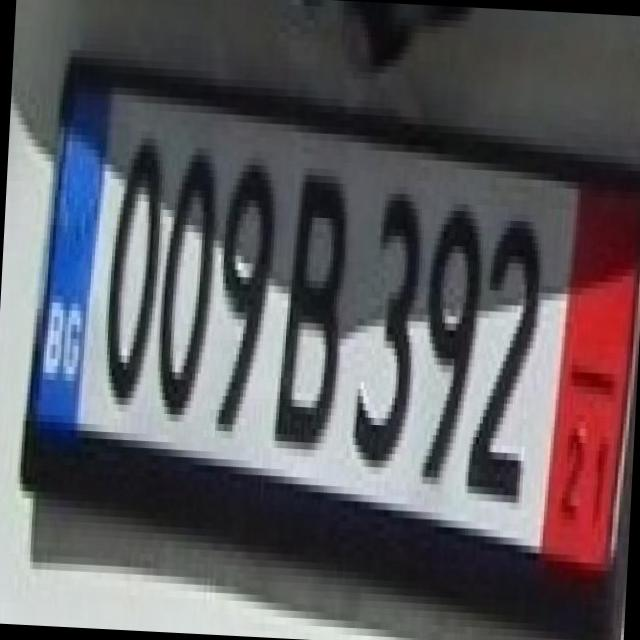0: (87, 108, 174, 407), (147, 118, 220, 417)
2: (456, 197, 549, 497)
3: (339, 163, 434, 470)
9: (402, 187, 492, 480), (201, 135, 288, 427)
B: (266, 145, 356, 452)
